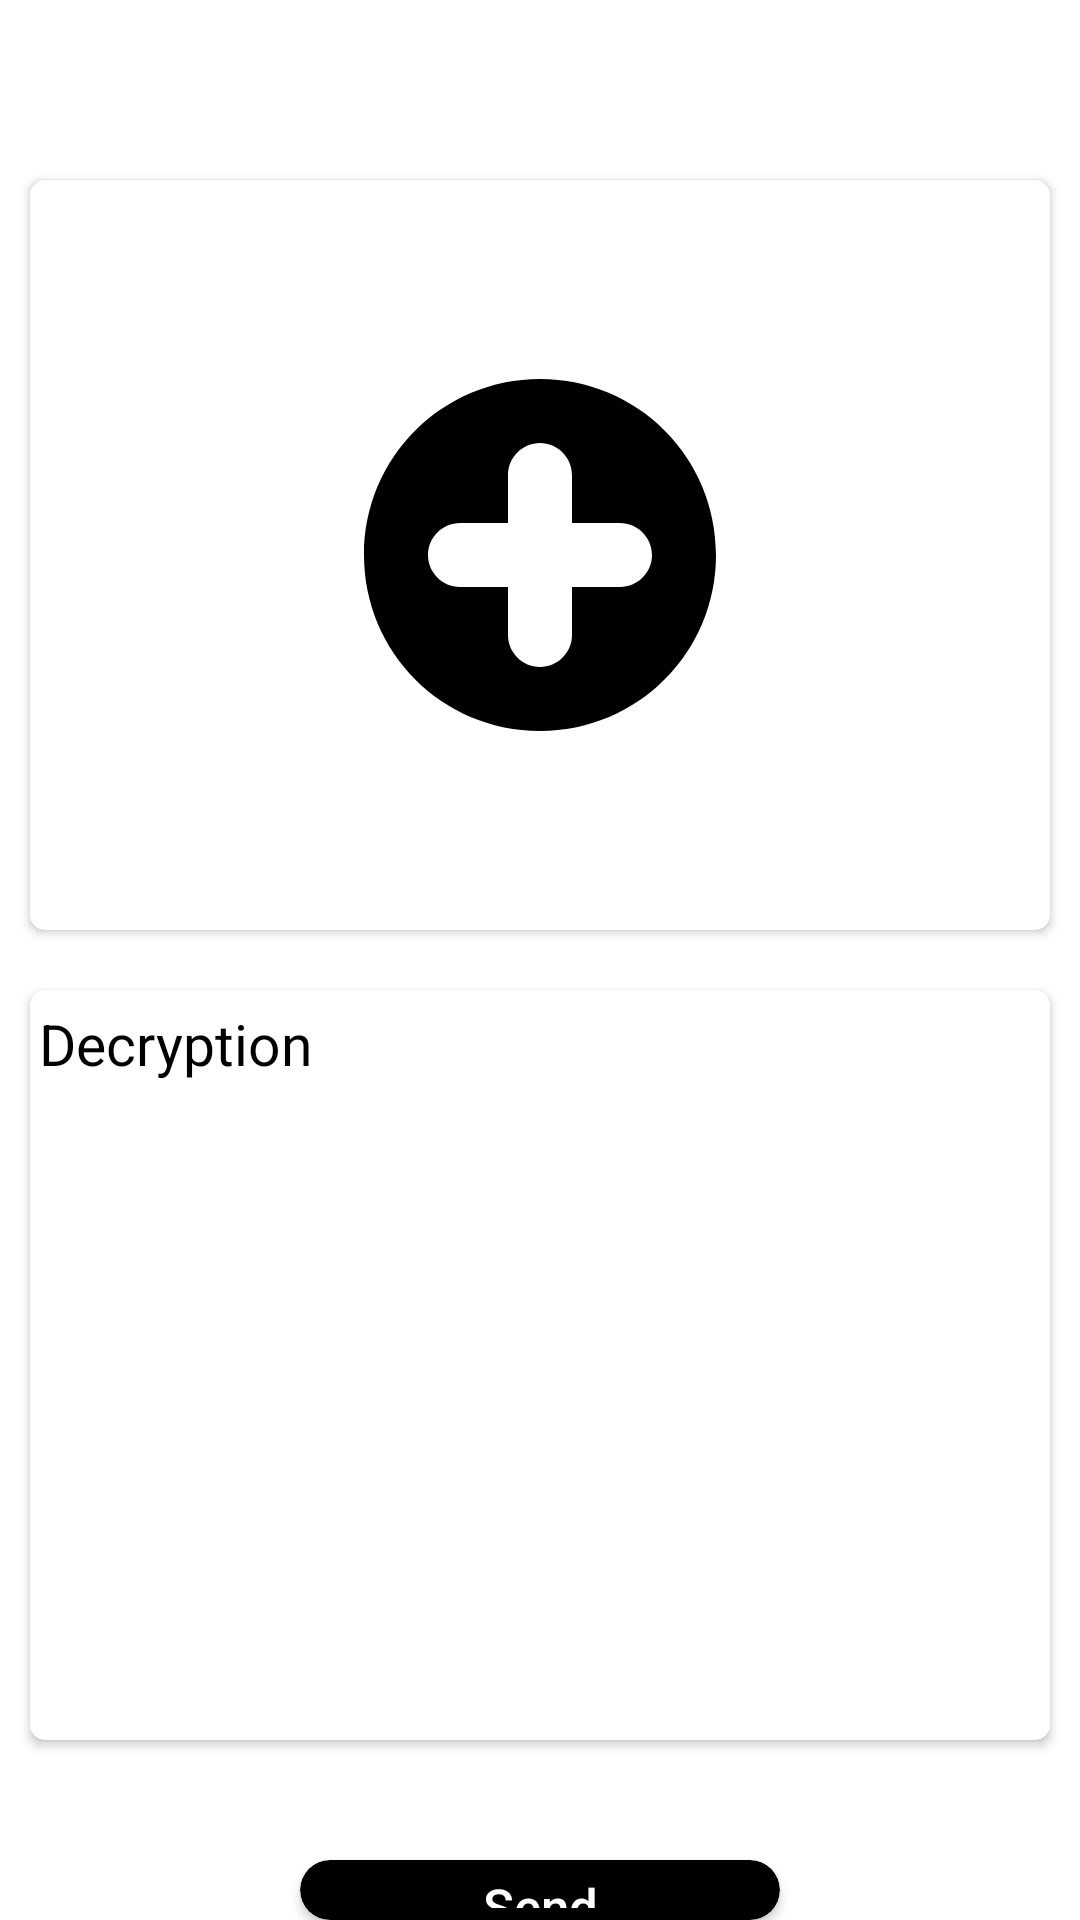

Named icons in this screenshot (1080 x 1920) and their centers, (x,y):
add: (540,555)
